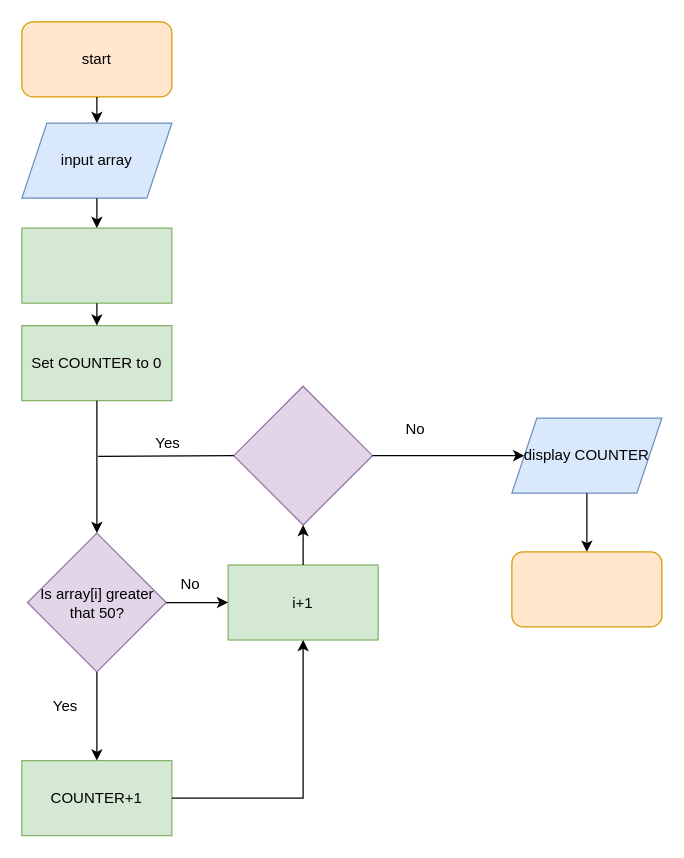
The diagram is 684 pixels wide and 858 high, and some of its shapes have lost their labels. The shapes that lost their labels are listed below. From the top down, each one's box as (x1, y1, x2, y2) in pixels, then its label:
(21, 227, 172, 303): Set i to 0
(232, 385, 372, 525): Is i < array.length?
(511, 551, 662, 627): finish
